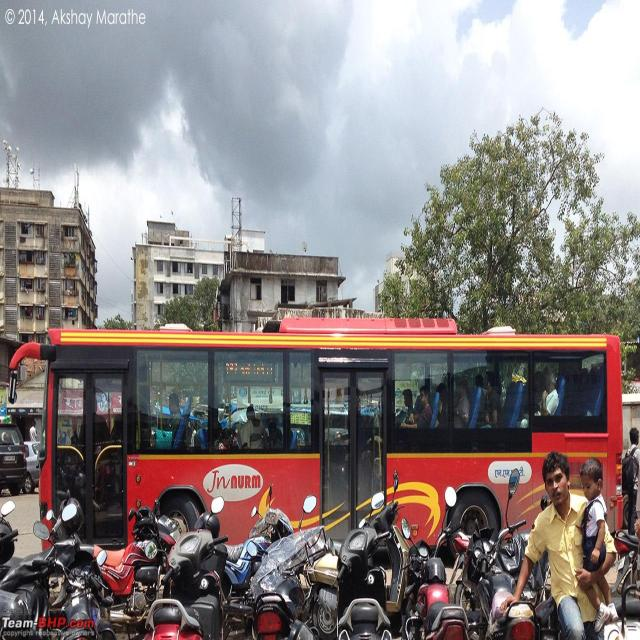bus: (10, 317, 622, 544)
motorcycle: (462, 469, 539, 640), (145, 529, 225, 640), (401, 518, 469, 640), (338, 492, 391, 640)
